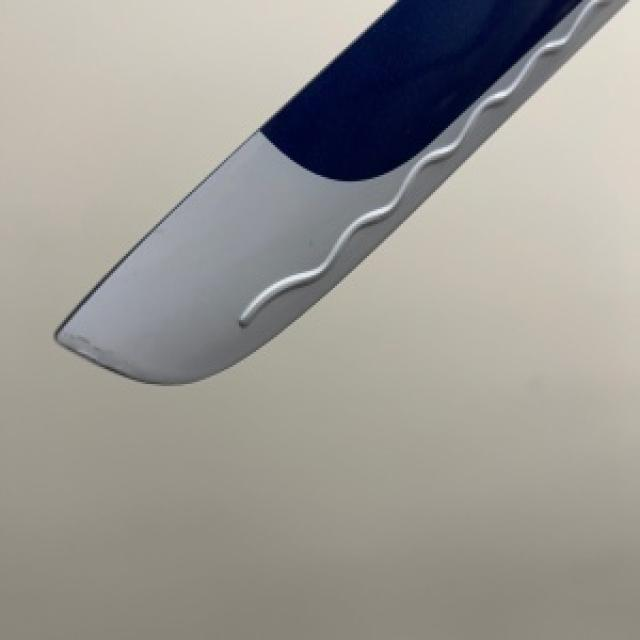healthy: (55, 0, 625, 382)
